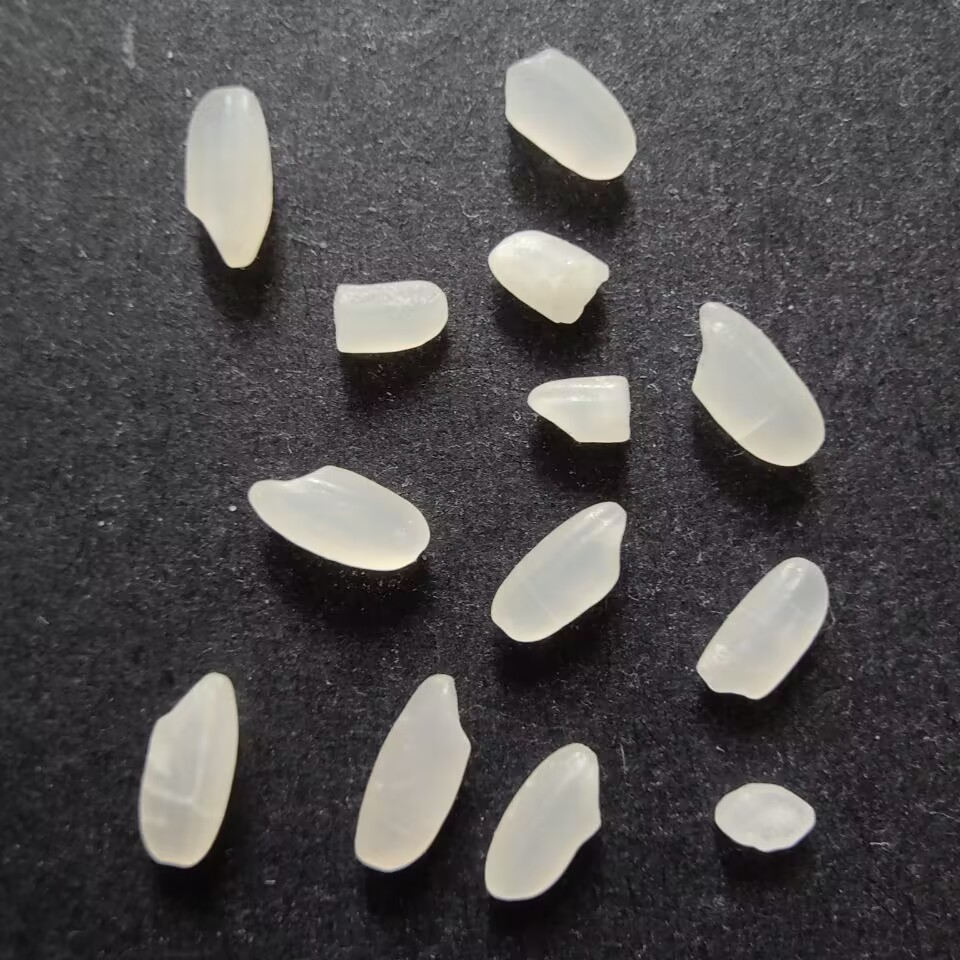broken: (484, 226, 614, 326), (327, 276, 452, 357), (521, 371, 636, 450), (711, 779, 821, 855)
rice: (350, 668, 473, 875), (686, 295, 829, 469), (134, 667, 242, 873), (244, 462, 435, 576), (488, 497, 631, 647), (481, 735, 605, 905), (692, 554, 831, 704), (497, 41, 638, 182), (182, 83, 276, 275)
